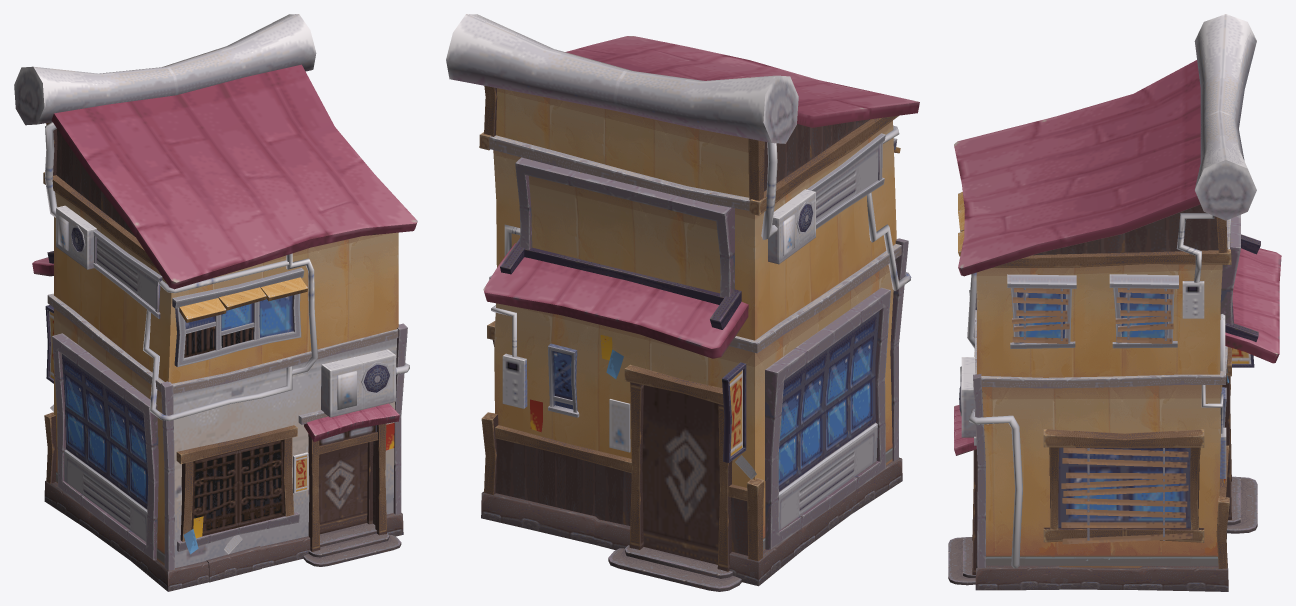
Rendered from hbxz_jz005_02.FBX.
3 renders of one model, left to right at view 1: azimuth 30°, elevation 25°; view 2: azimuth 150°, elevation 25°; view 3: azimuth 270°, elevation 25°, orthographic. The views are drawn at different scales.
Visible parts, largest first — view 1: hbxz_jz005_02; view 2: hbxz_jz005_02; view 3: hbxz_jz005_02.
Boxes of the visible parts, x1,y1,x2,y2 form: hbxz_jz005_02: (14, 14, 417, 591); hbxz_jz005_02: (446, 14, 919, 591); hbxz_jz005_02: (948, 14, 1281, 591).
Size of the model in its own units: 3.91 by 5.91 by 3.94.
Materials: 2 (2 with a texture image).
